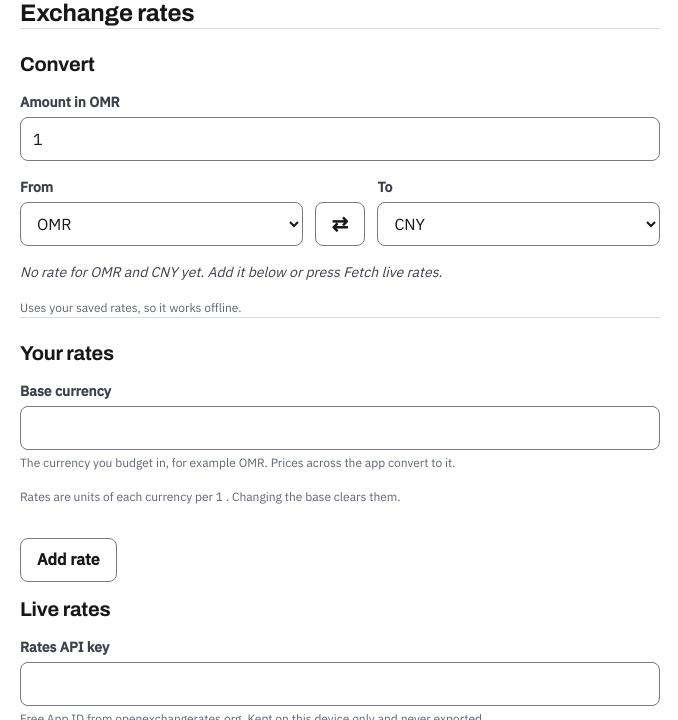
RatesScreen › rejects a zero rate without saving
Expected: the heading "Exchange rates" is shown, [20,0,194,26]
Click the button "Add rate" at (68, 560), box [20,538,117,582]
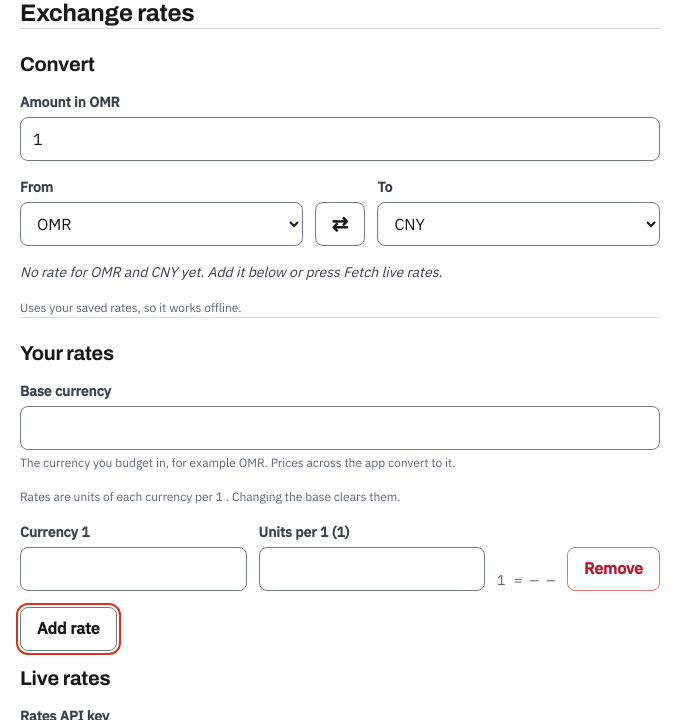
Type "CNY" into the field labelled "Currency 1" at (133, 569), box [20,547,246,591]
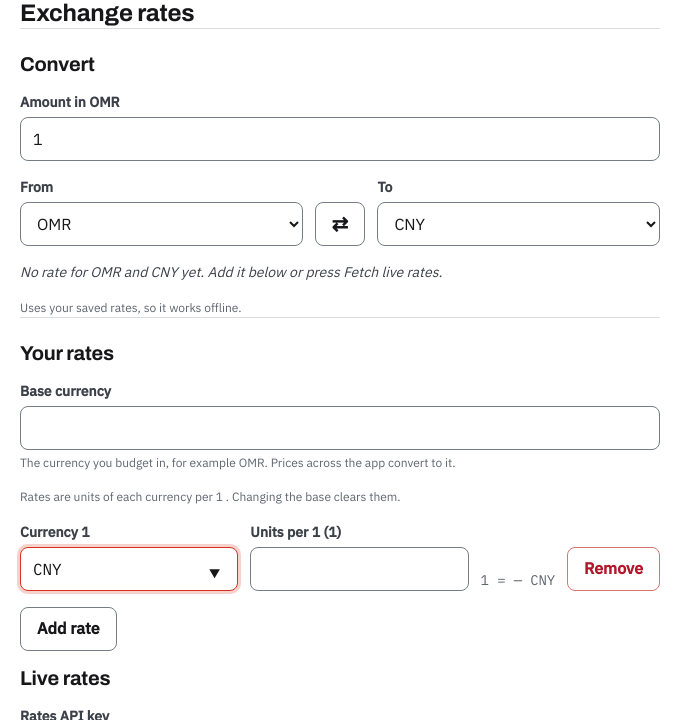
Type "0" into the field labelled "Units per 1 (1)" at (359, 569), box [250,547,469,591]
(page scrolled)
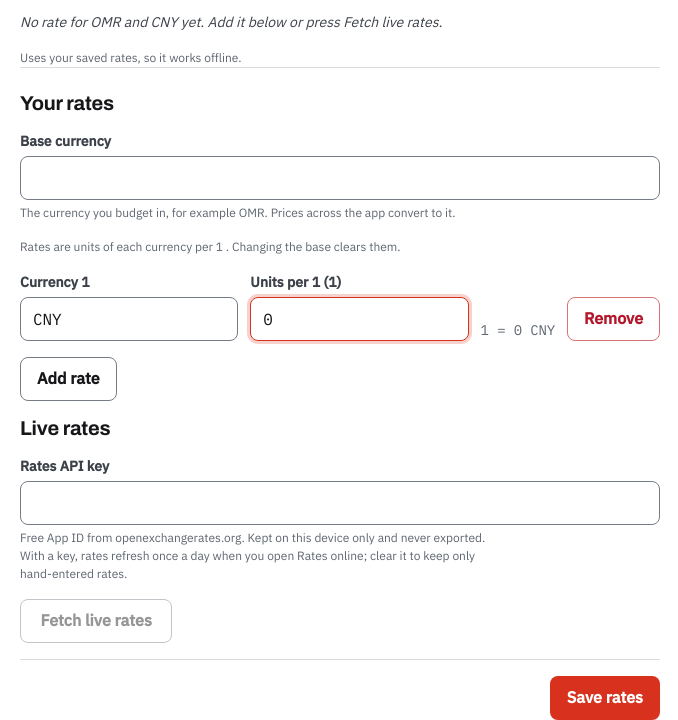
Click the button "Save rates" at (605, 698), box [550,676,660,719]
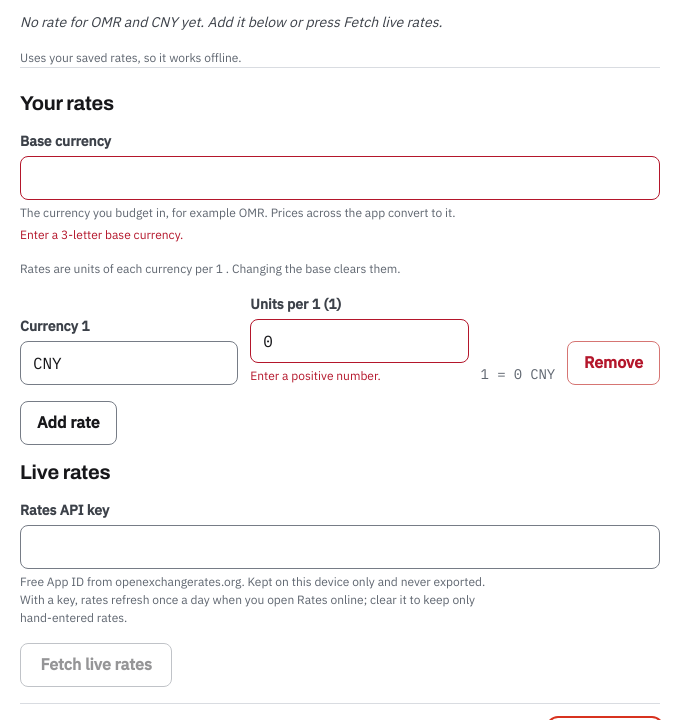
Expected: the text "Enter a positive number." is shown, [250,368,381,383]
